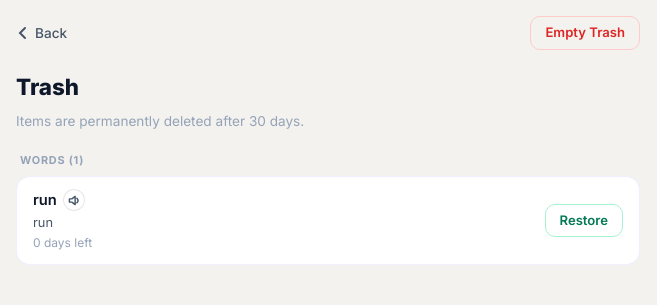
Scenario: TrashPage cache invalidation › shows backend restore-word errors inline so the user can follow the topic-restore guidance
Click the button "Restore".
click(584, 221)  # box [544,204,623,238]
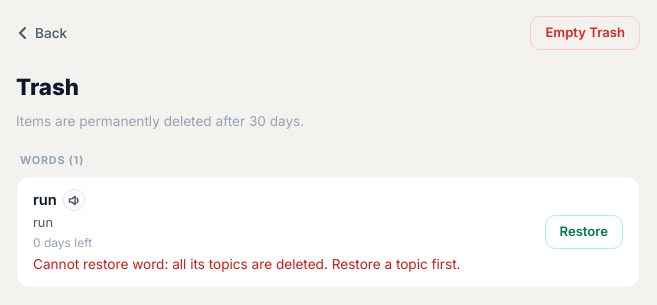
Now the text "Cannot restore word: all its topics are deleted. Restore a topic first." is shown, box [33,254,460,275]
